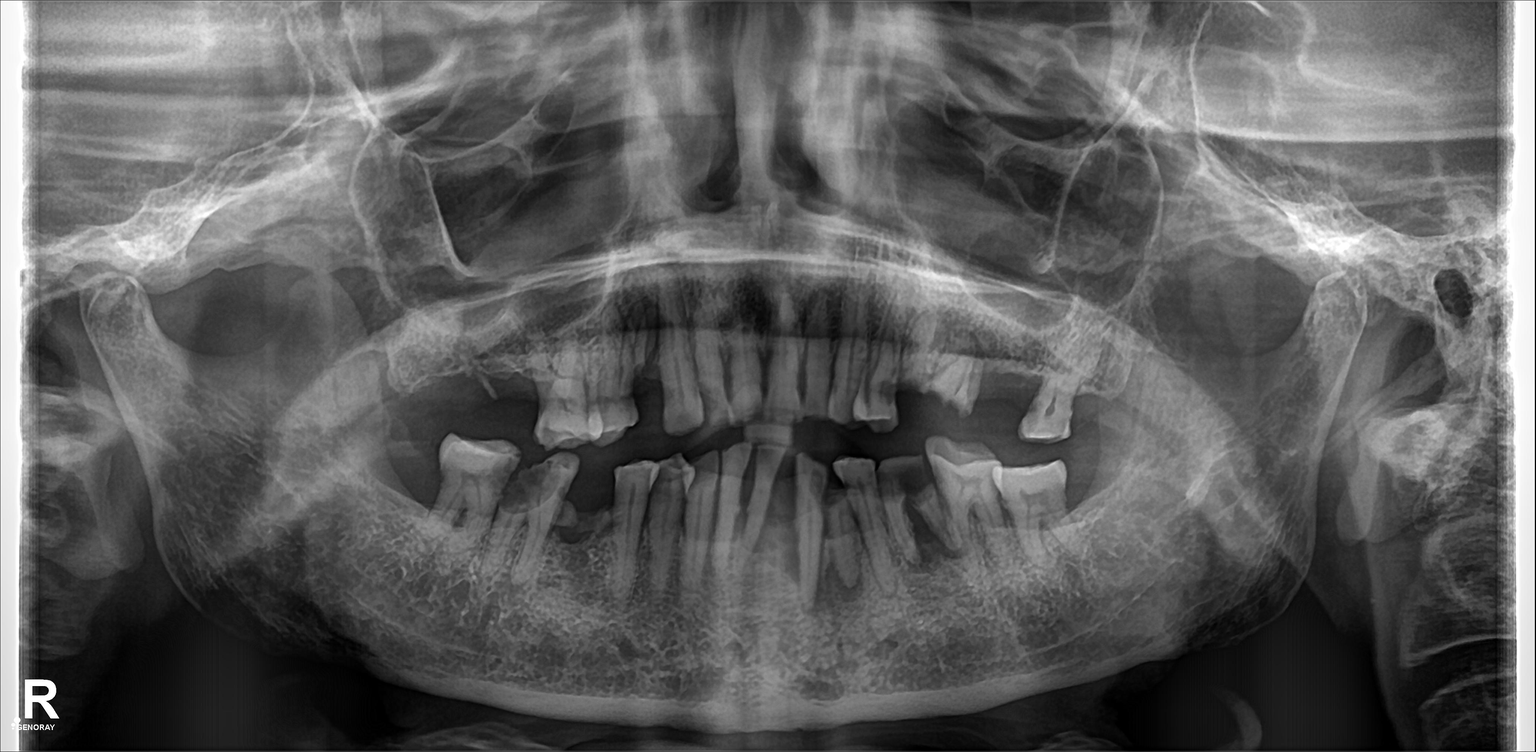Dental Caries: (505, 471, 554, 509), (896, 463, 931, 498), (819, 486, 846, 515)
Missing Tooth: (387, 441, 444, 548), (577, 467, 617, 585), (482, 329, 527, 419), (430, 329, 471, 425), (387, 337, 426, 432), (1073, 458, 1114, 542), (983, 350, 1026, 428), (1084, 367, 1123, 442), (631, 337, 661, 423)
Retained Root: (929, 344, 977, 435), (894, 339, 930, 425)
